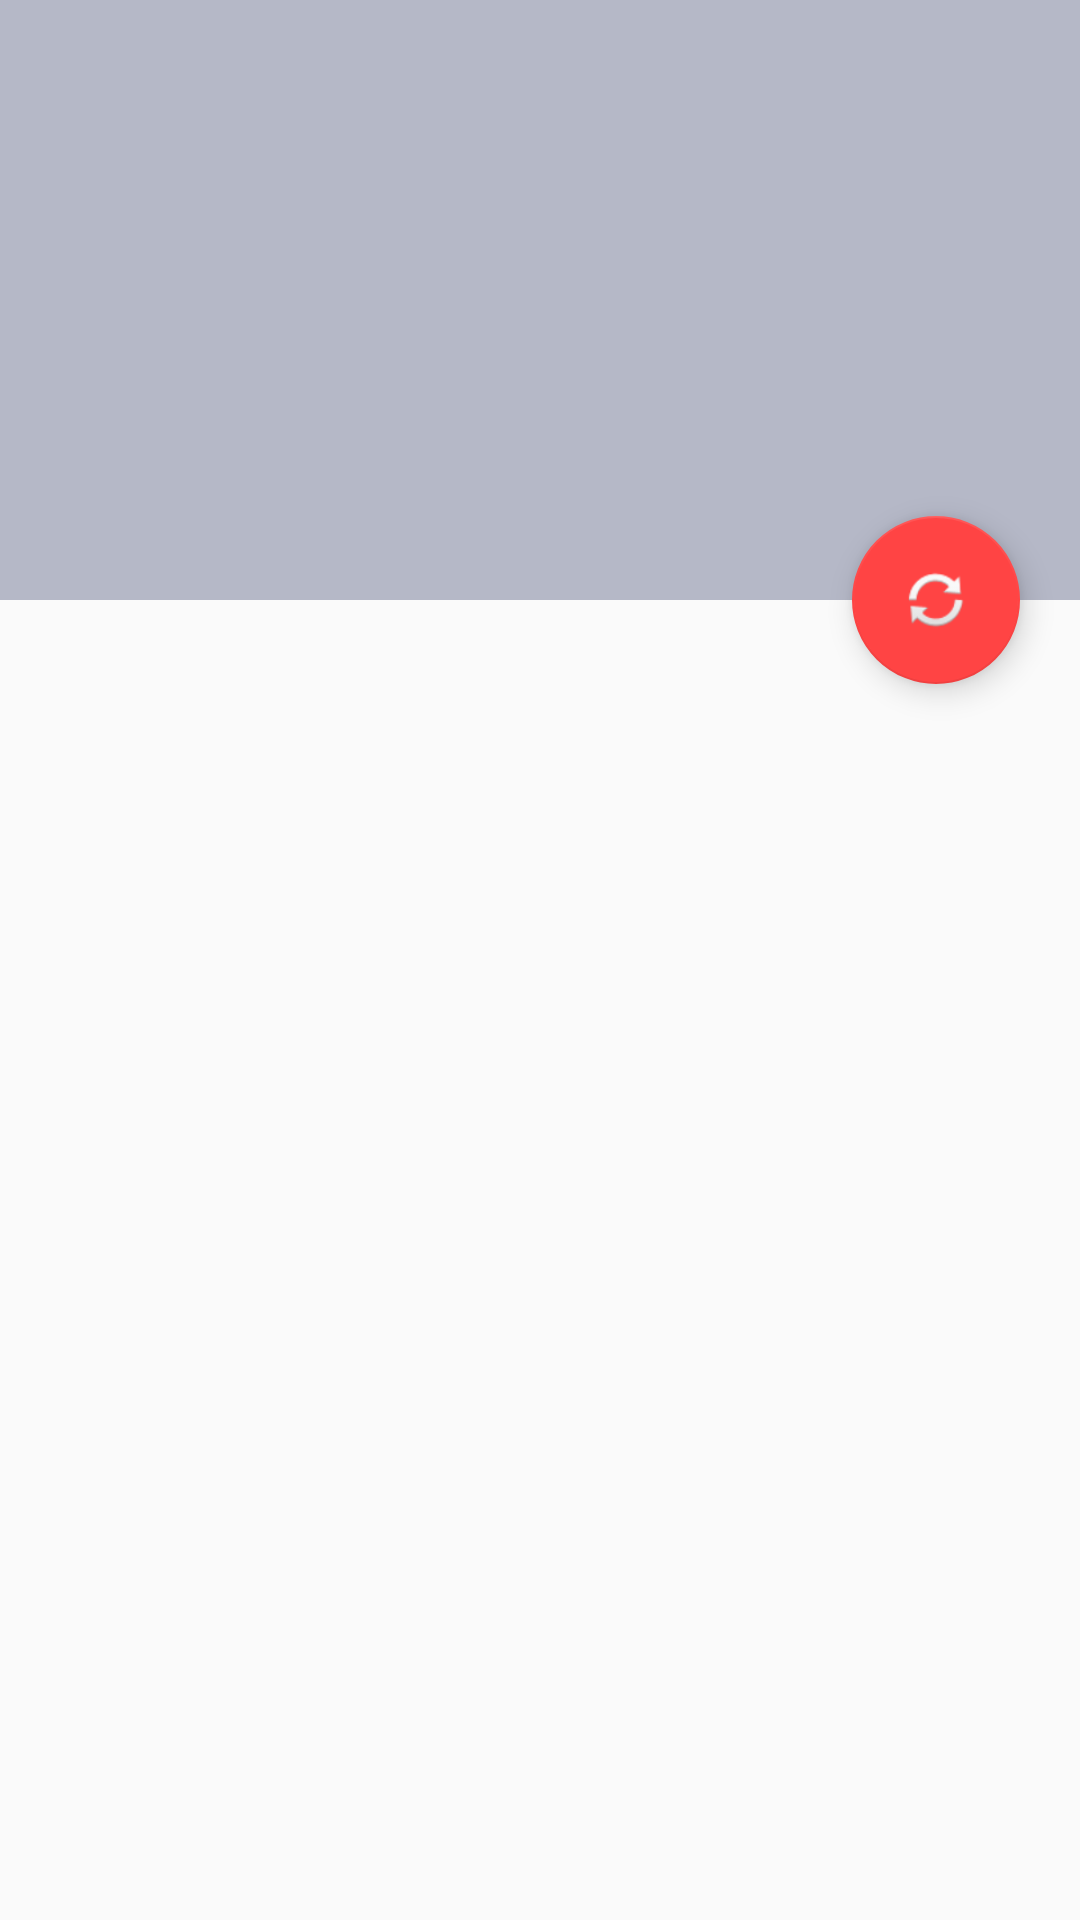

Icons on this 1080w x 1920h Android screen, each with the point to tap as (x,y):
popup sync: (936,600)
